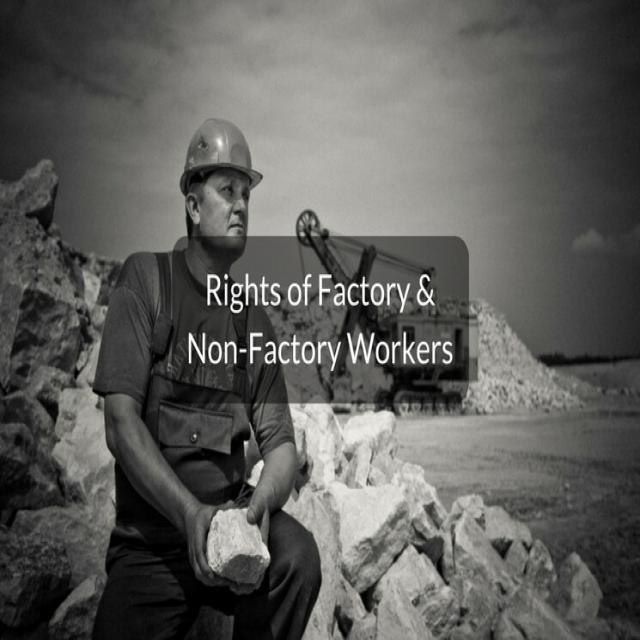safety_helmet: (175, 109, 264, 193)
